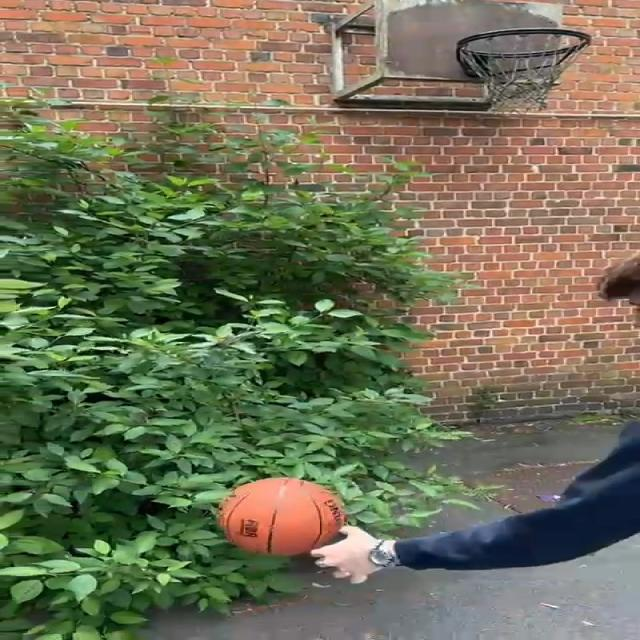Basketball: (223, 476, 344, 554)
